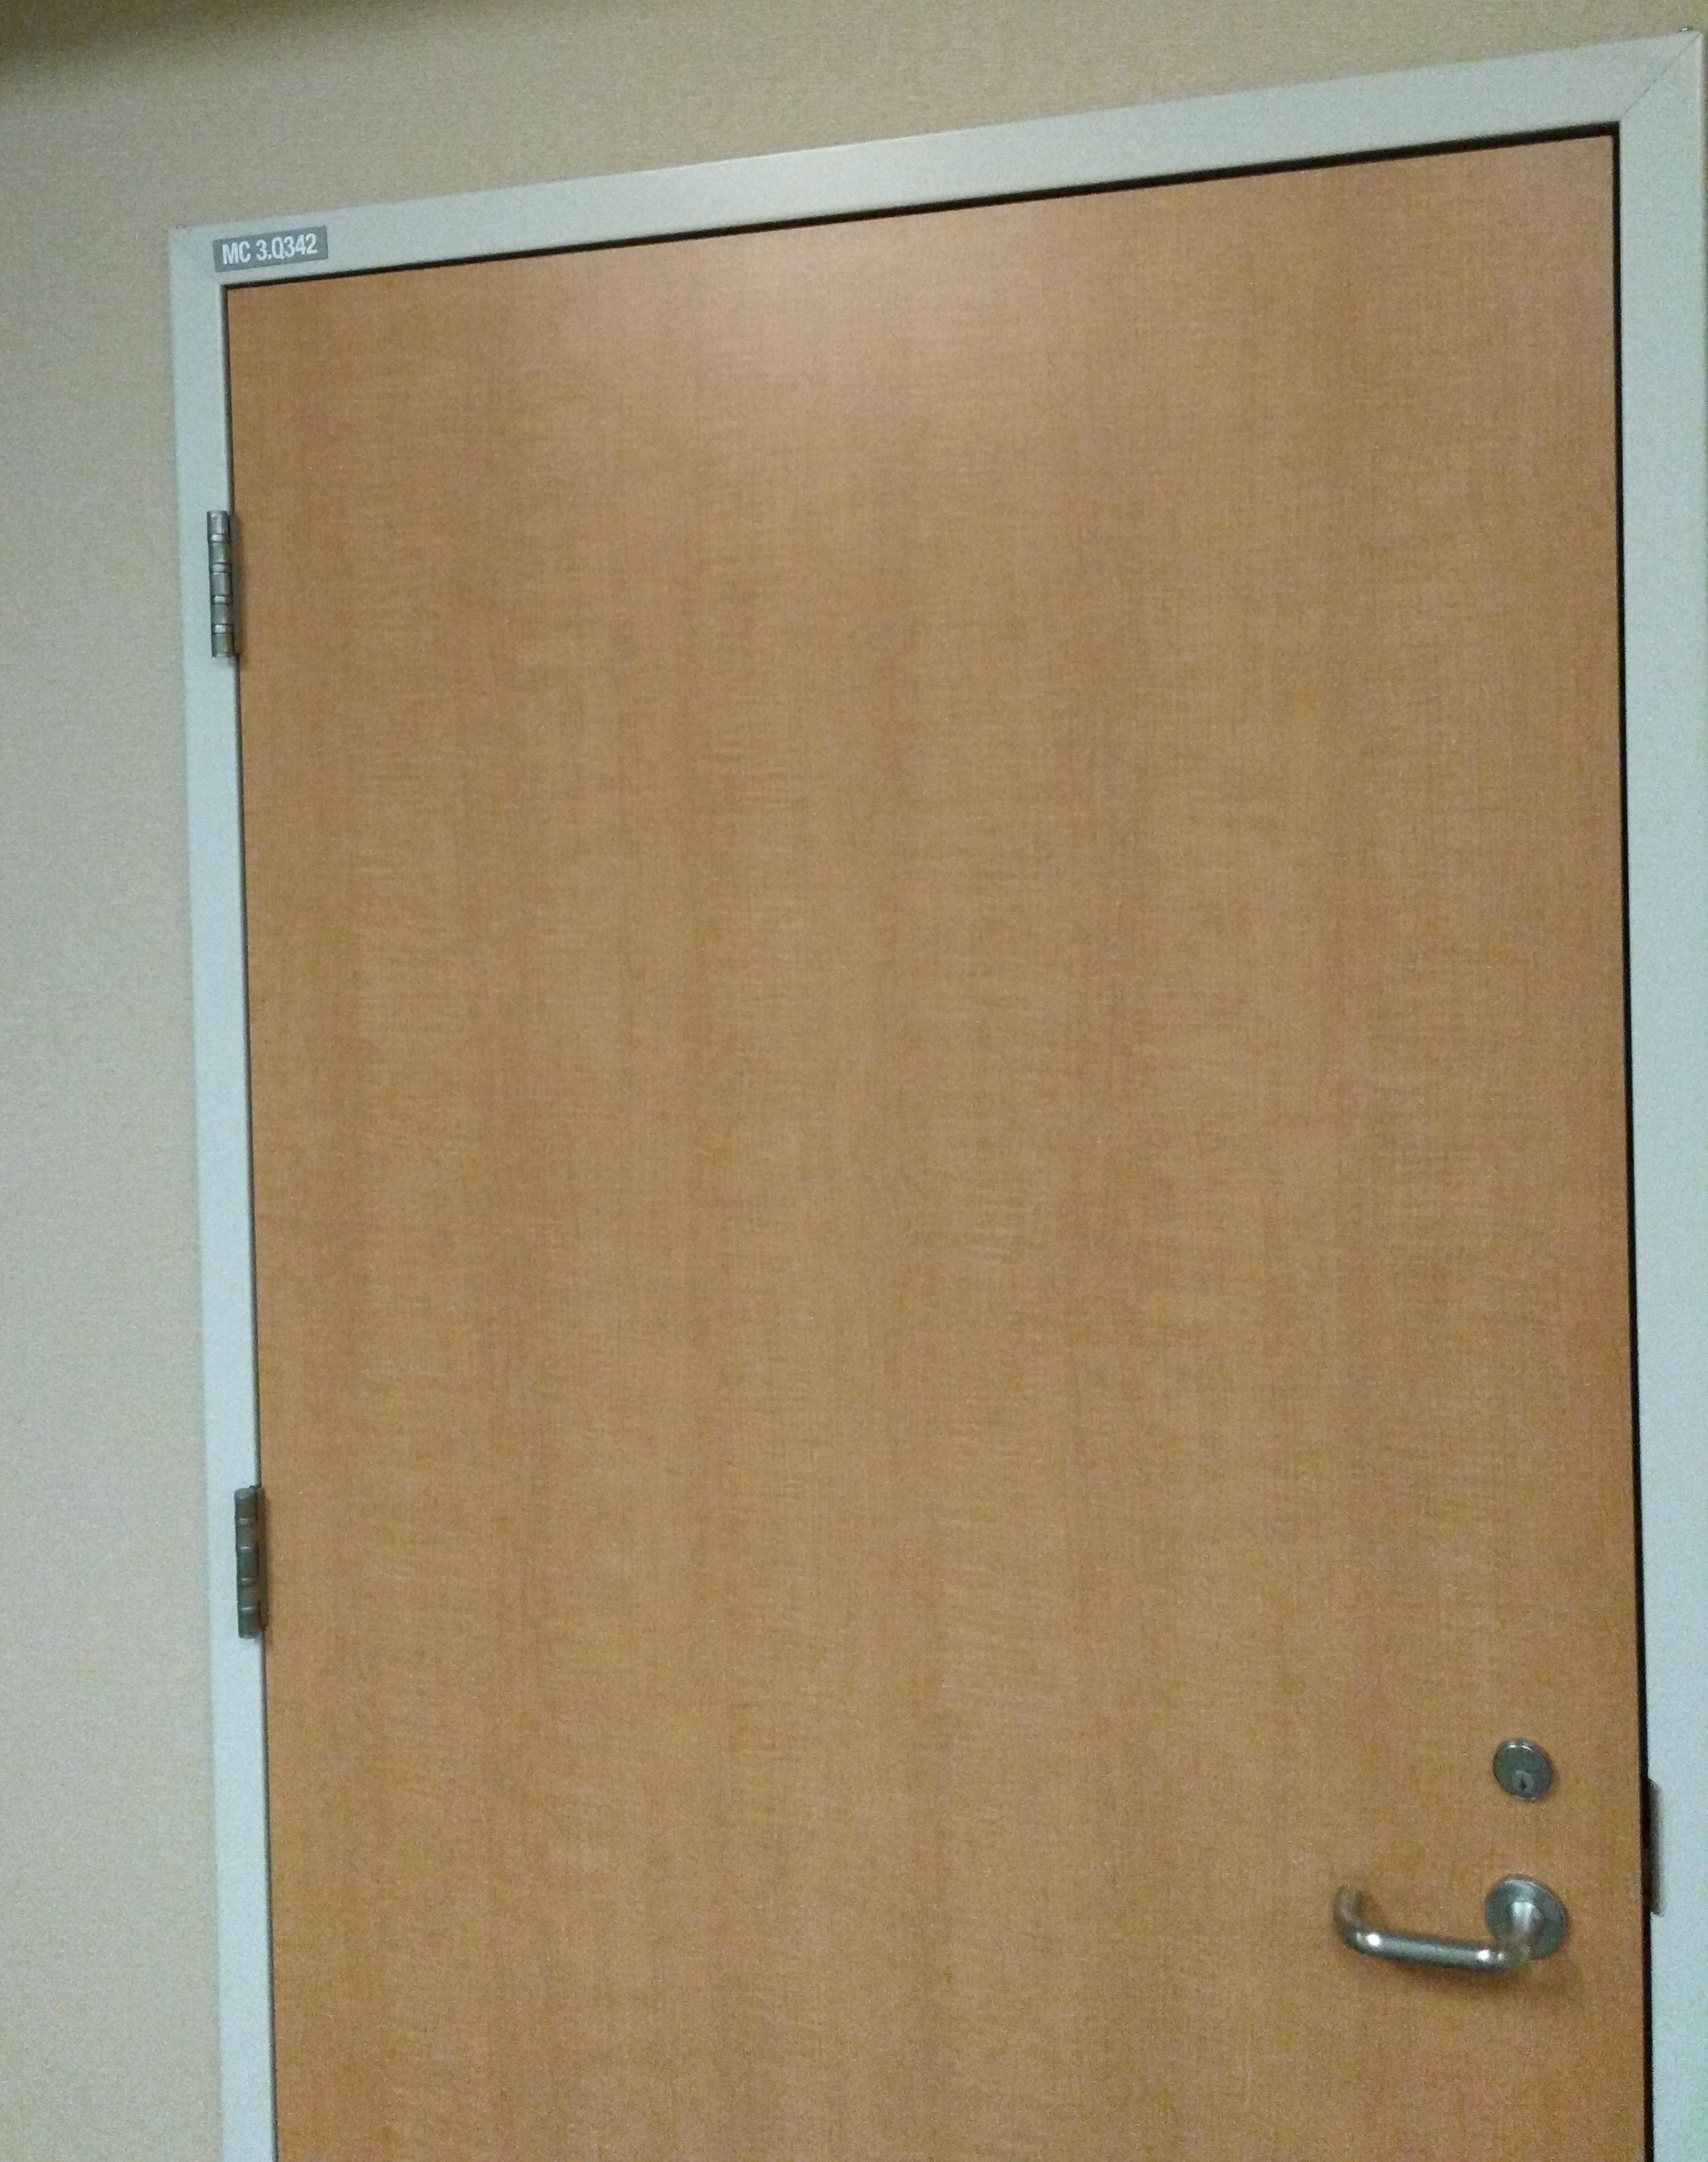door: (244, 107, 1641, 2157)
